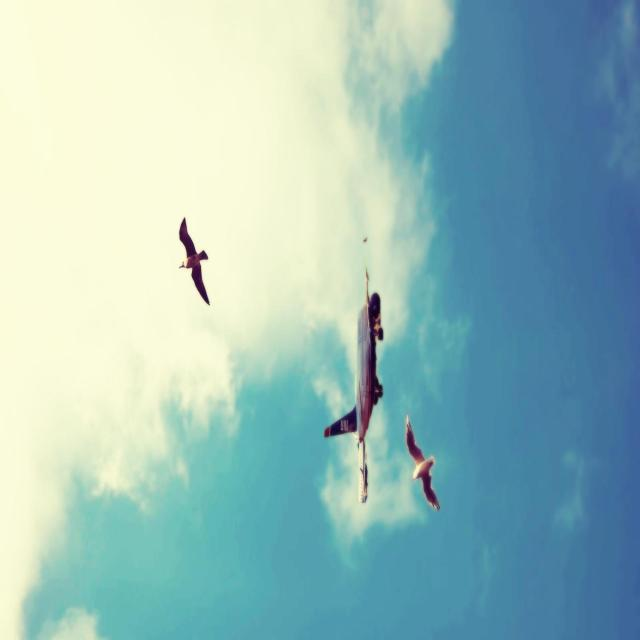airplane: (323, 263, 384, 503)
